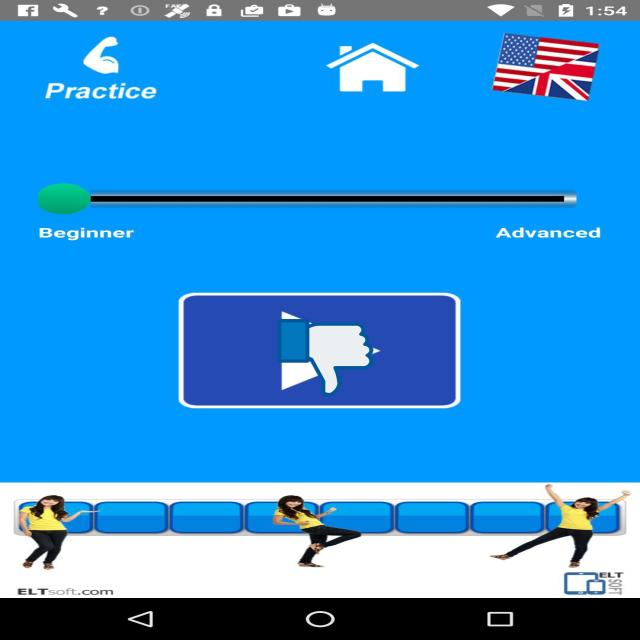obstruction: (277, 317, 373, 398)
